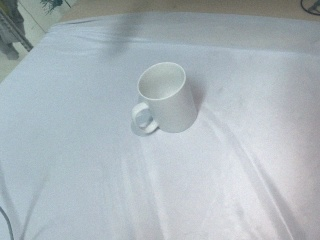cup: (130, 61, 199, 137)
